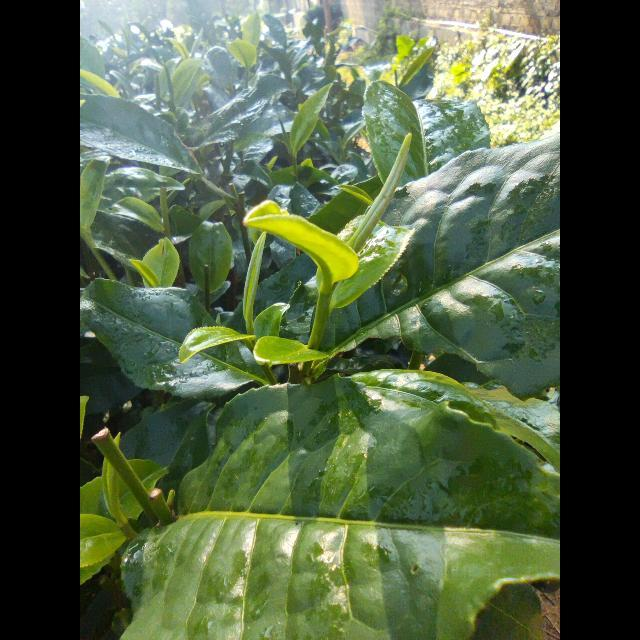Stem: (315, 291, 332, 319), (292, 156, 297, 168)
